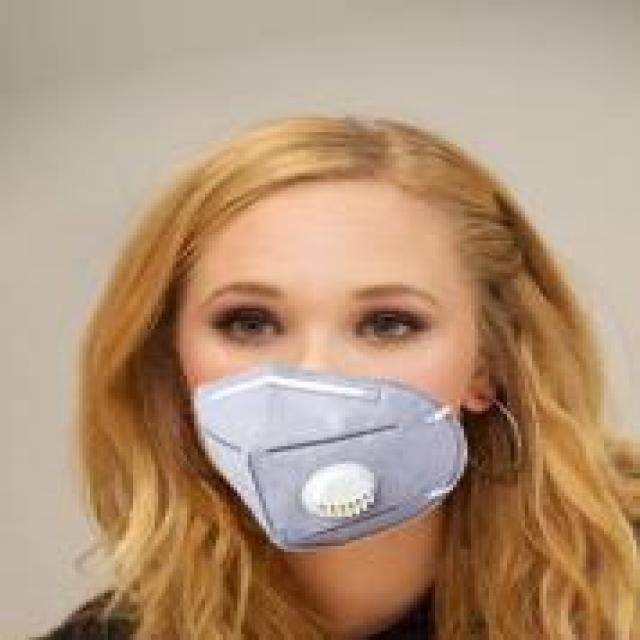mask: (126, 132, 521, 549)
